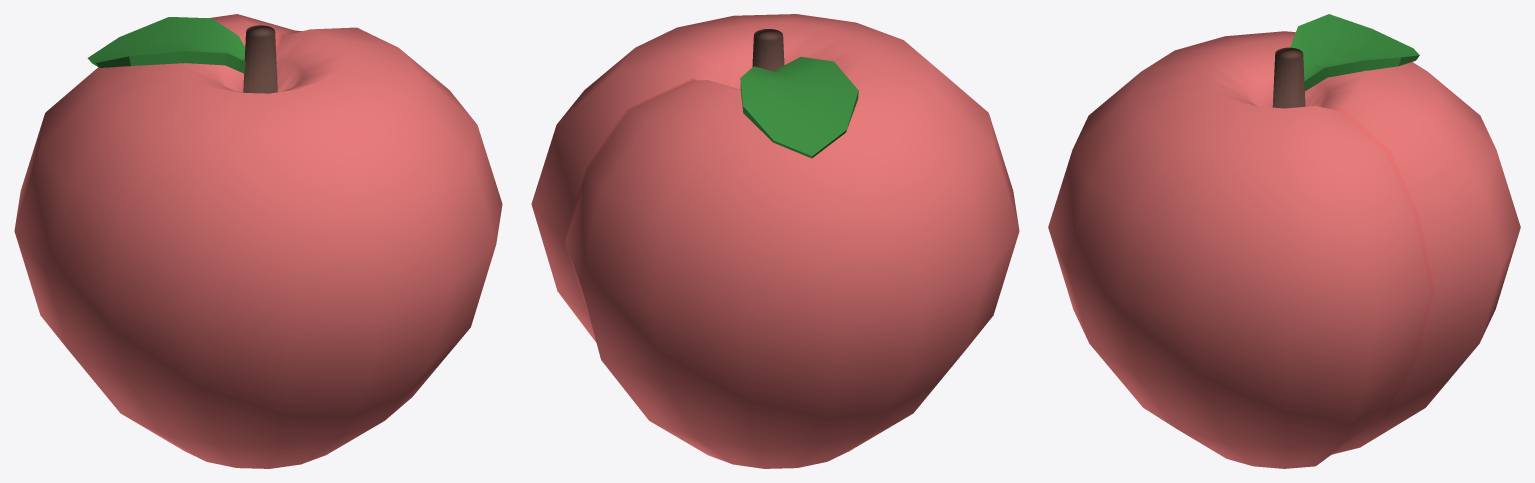
The model's file is peach.fbx.
3 views of the same model, side by side, from view 1: azimuth 30°, elevation 25°; view 2: azimuth 150°, elevation 25°; view 3: azimuth 270°, elevation 25° (orthographic). The views are drawn at different scales.
Visible parts, largest first — view 1: peach; view 2: peach; view 3: peach.
Part boxes in pixels (bbox=[...]): peach: bbox=[14, 14, 502, 468]; peach: bbox=[531, 14, 1019, 468]; peach: bbox=[1048, 14, 1520, 468].
Bounding box in the file's own units: 218 × 212 × 218.
